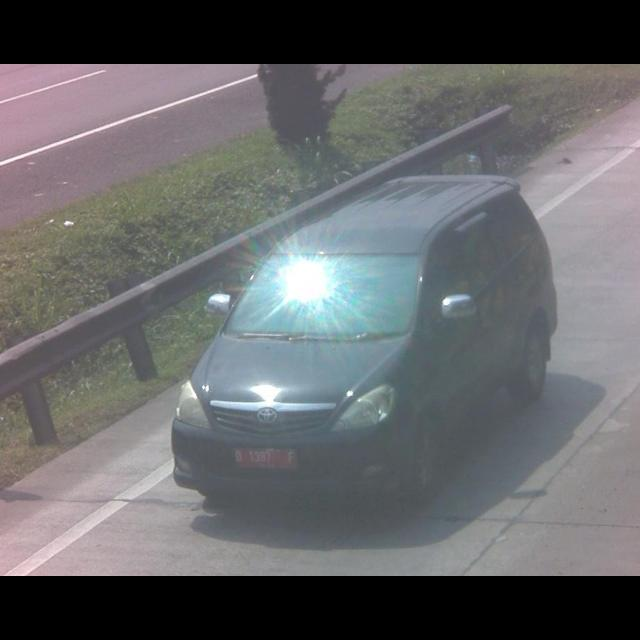plate: (233, 447, 296, 469)
